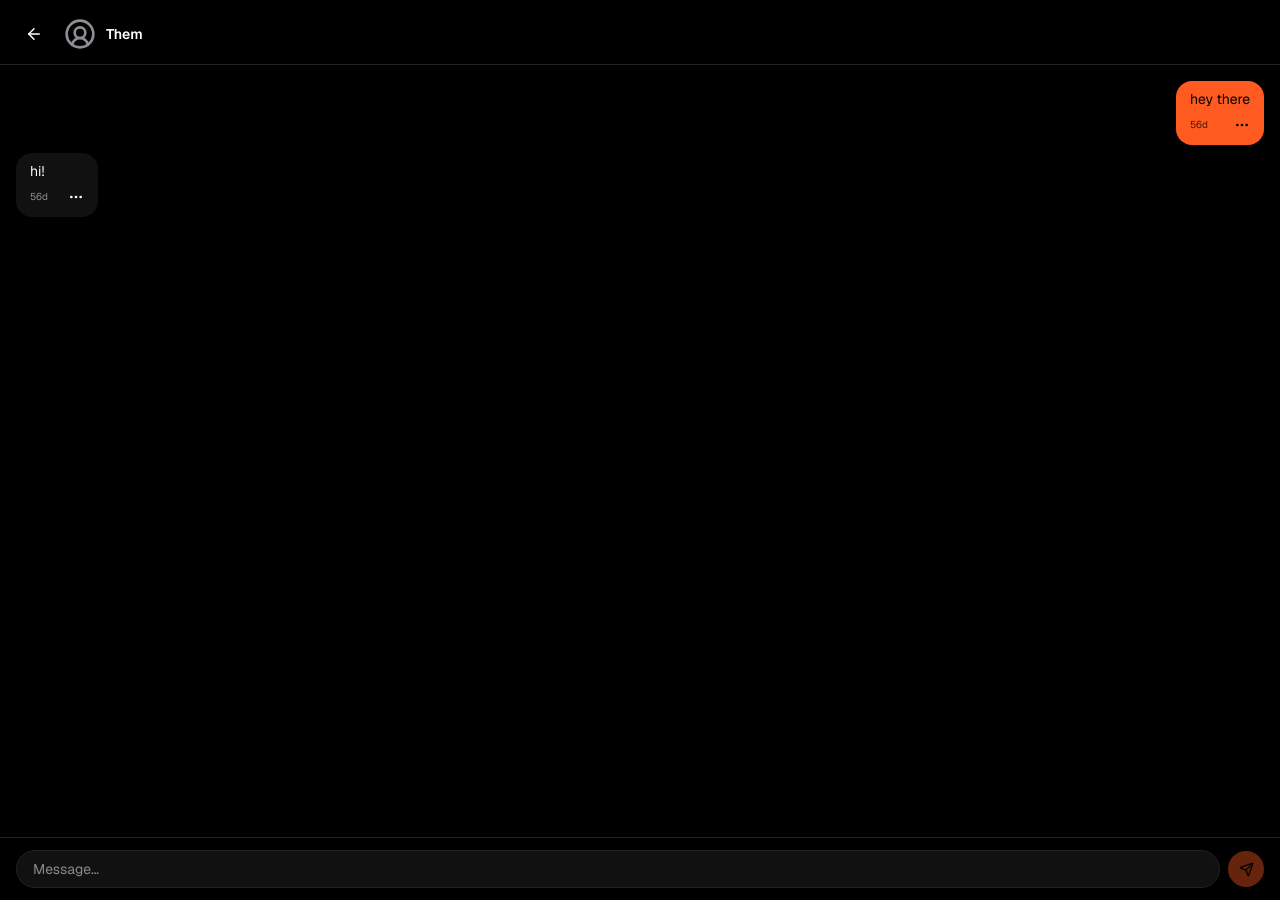
Test: DM thread page › re-enables sending after an unexpected throw from sendMessage, and keeps the draft
Expected: the text "hey there" is shown, x1=1190 y1=89 x2=1250 y2=109
Type "will throw" into the field with placeholder "Message…" at (618, 869), box x1=16 y1=850 x2=1220 y2=888
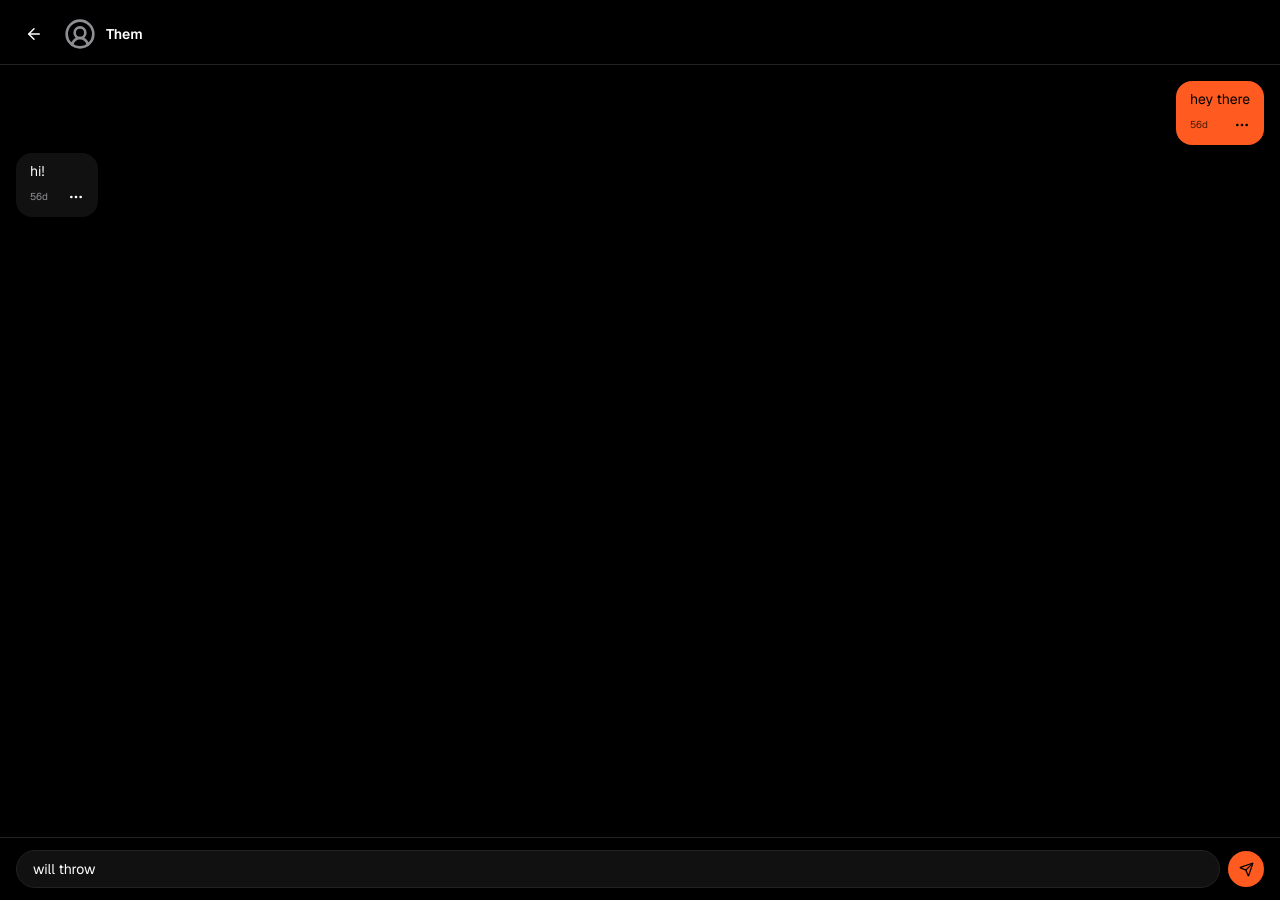
Click the button named "Send message" at (1246, 869), box x1=1228 y1=851 x2=1264 y2=887
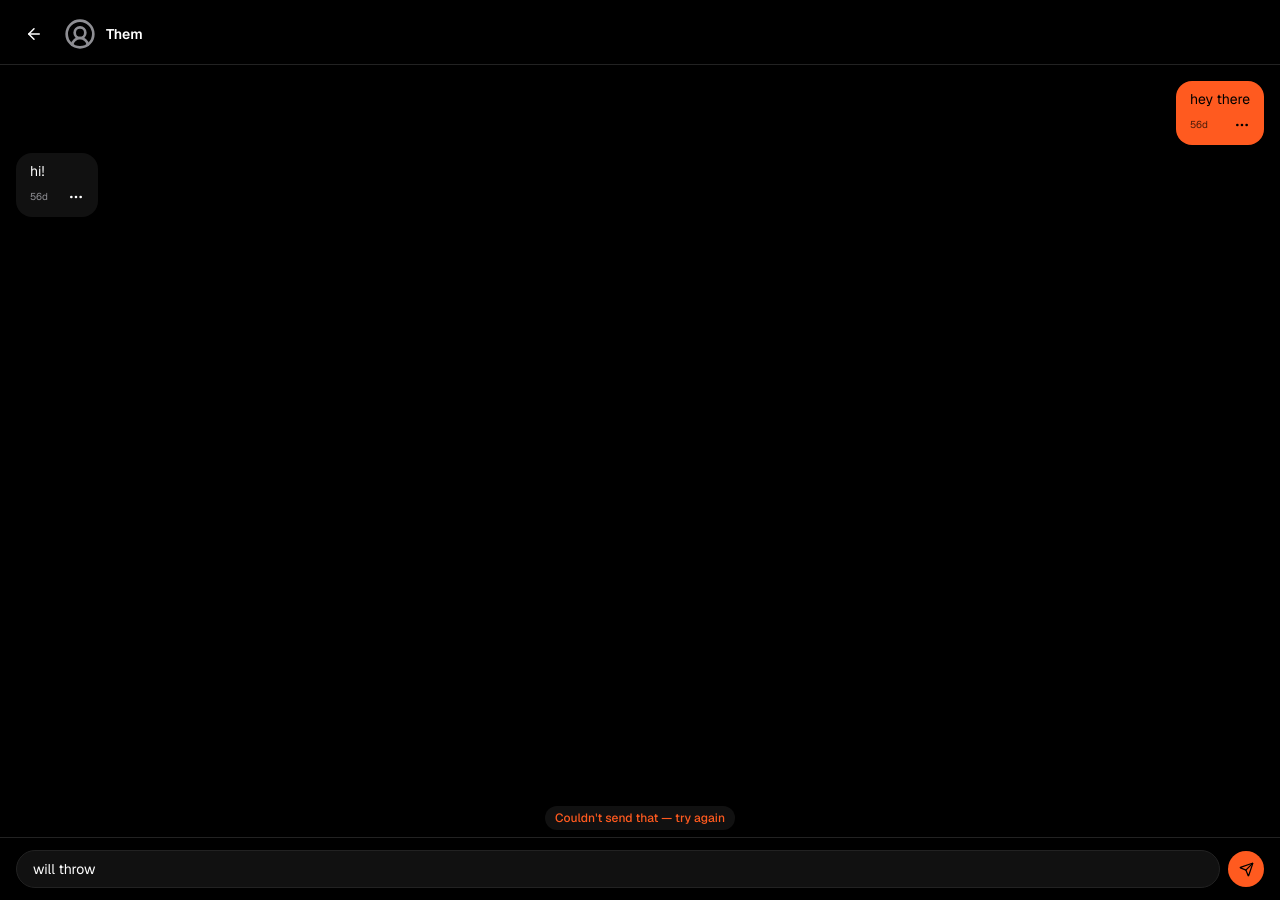
Result: the button named "Send message" is enabled at x1=1228 y1=851 x2=1264 y2=887
Result: the text "Couldn't send that — try again" is shown at x1=545 y1=806 x2=735 y2=830
